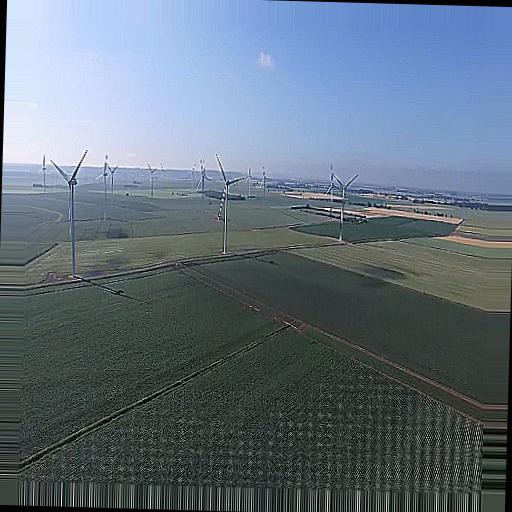wind turbine: (51, 149, 89, 276), (214, 155, 247, 256), (332, 171, 359, 242)
